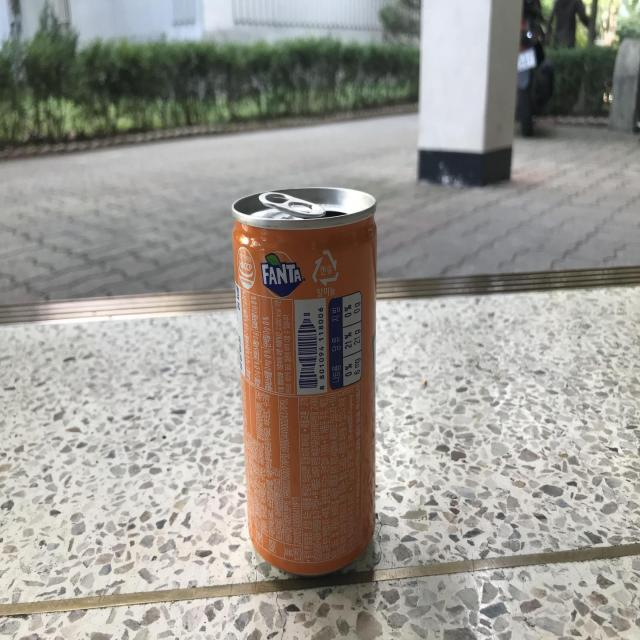can: (232, 187, 377, 575)
